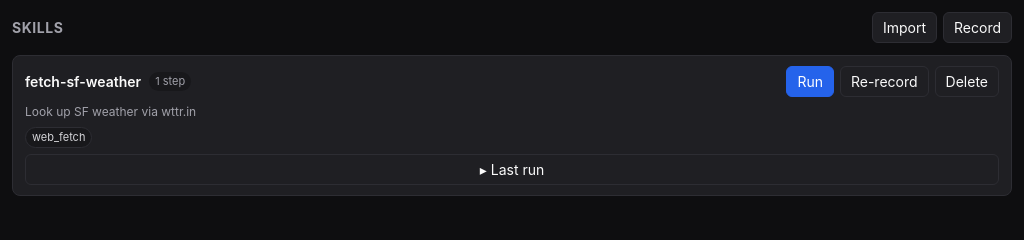
Test case: SkillsPanel › renders an empty-state message when a skill has never been run
expect the text "fetch-sf-weather" is shown: met, box [25, 71, 141, 92]
Click the button with test id "skill-last-run-toggle": point(512, 169) [25, 154, 999, 184]
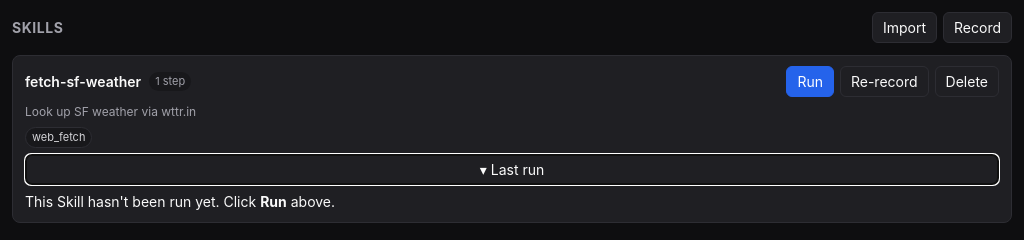
expect the text "This Skill hasn't been run yet. Click Run above." is shown: met, box [25, 192, 335, 210]
